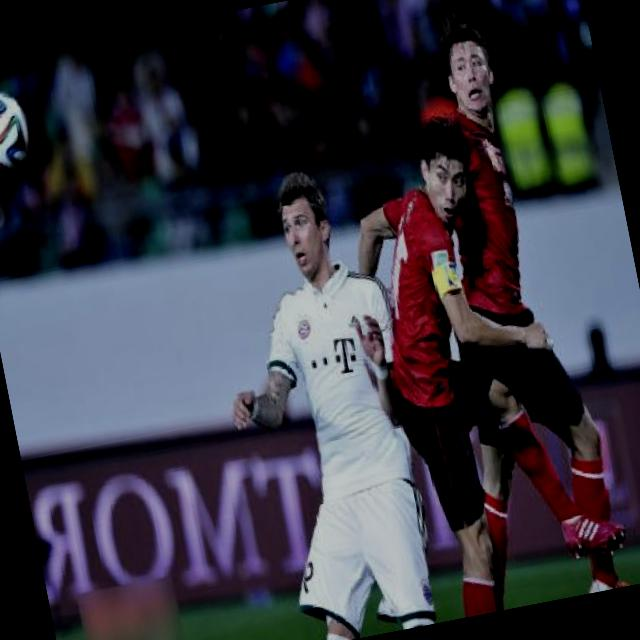Person: (406, 0, 637, 605), (192, 130, 461, 640), (348, 120, 553, 618)
